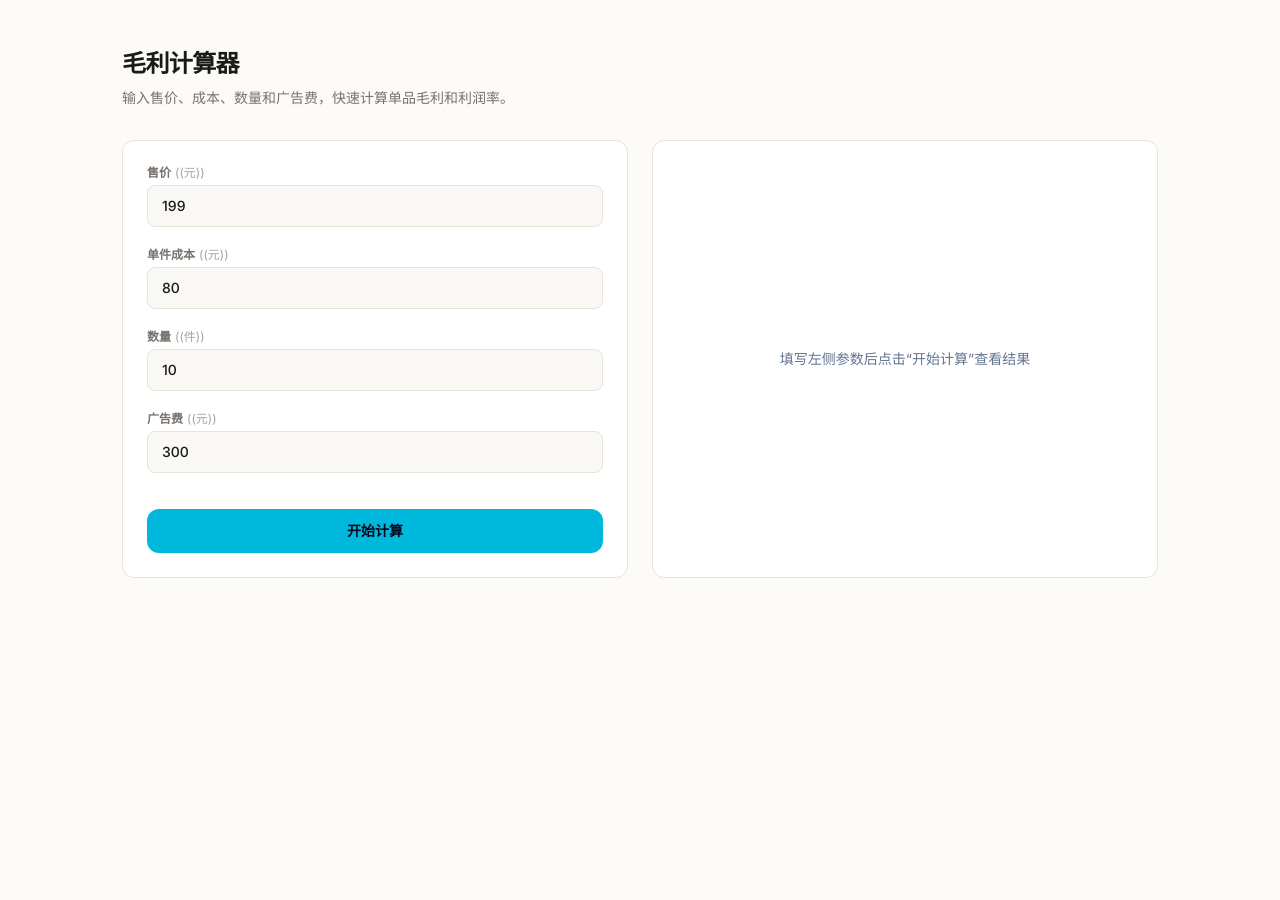
Test: ProfitCalculatorPage › shows net profit ¥890 and margin 59.8% after clicking calculate
Click the button "开始计算" at (375, 531), box x1=147 y1=509 x2=603 y2=553
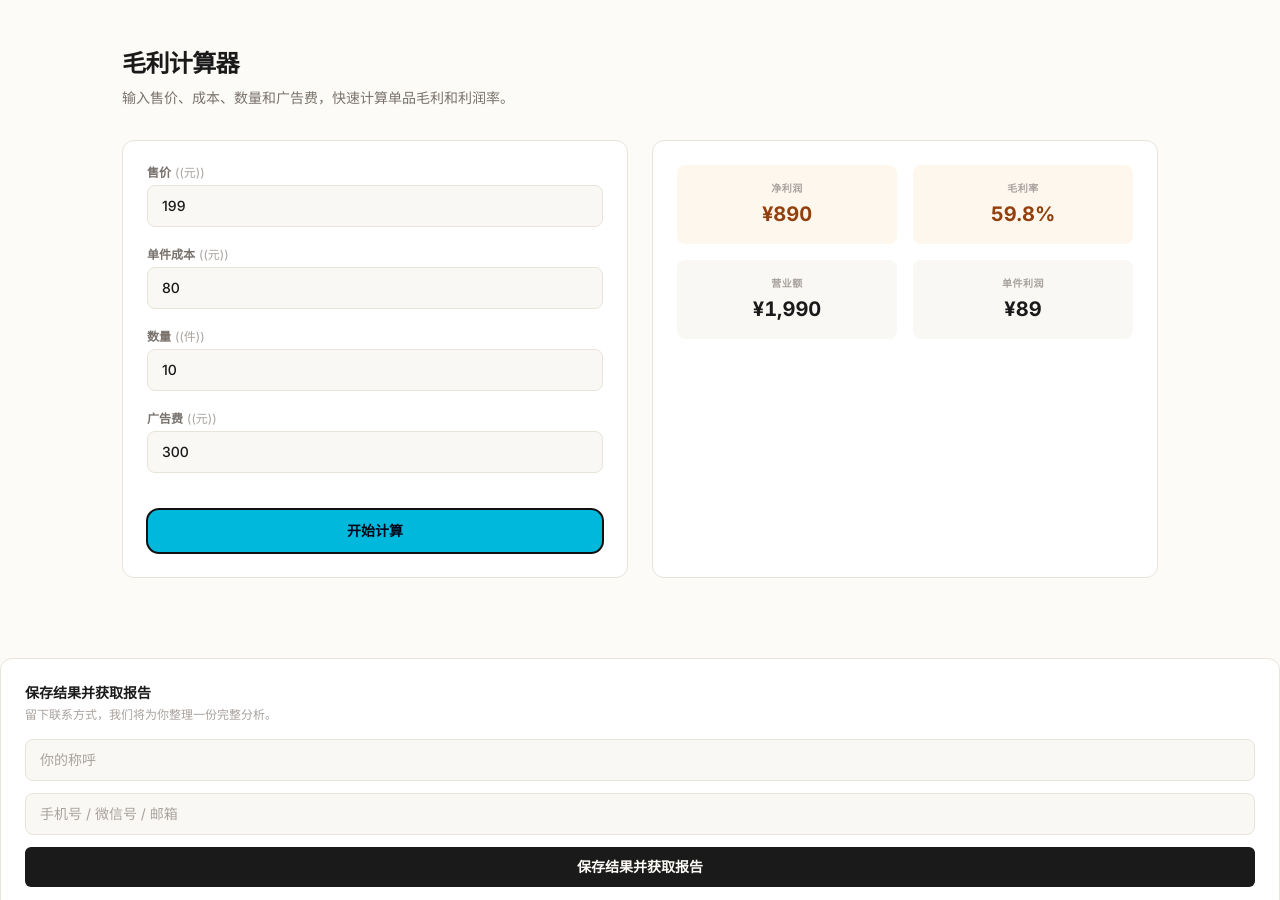
Result: the text "净利润" is shown at x1=771 y1=182 x2=803 y2=194
Result: the text "毛利率" is shown at x1=1007 y1=182 x2=1039 y2=194
Result: the text "营业额" is shown at x1=771 y1=277 x2=803 y2=289
